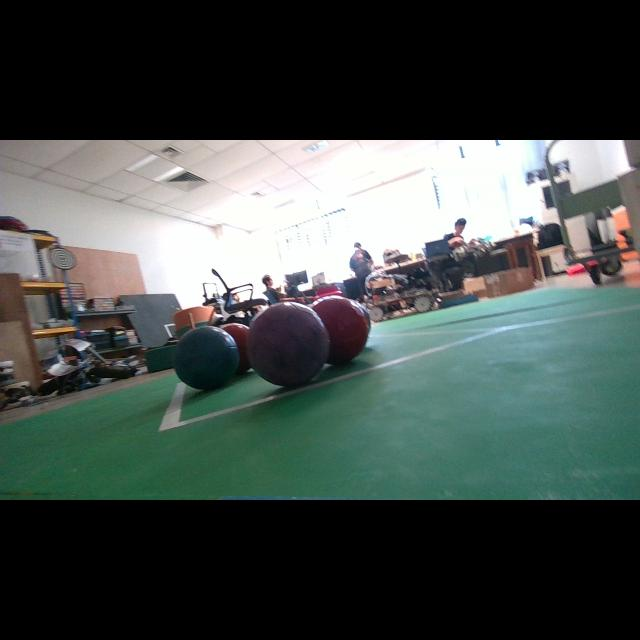B: (174, 326, 239, 390)
P: (246, 302, 330, 386)
R: (311, 295, 370, 365), (220, 322, 250, 373)
